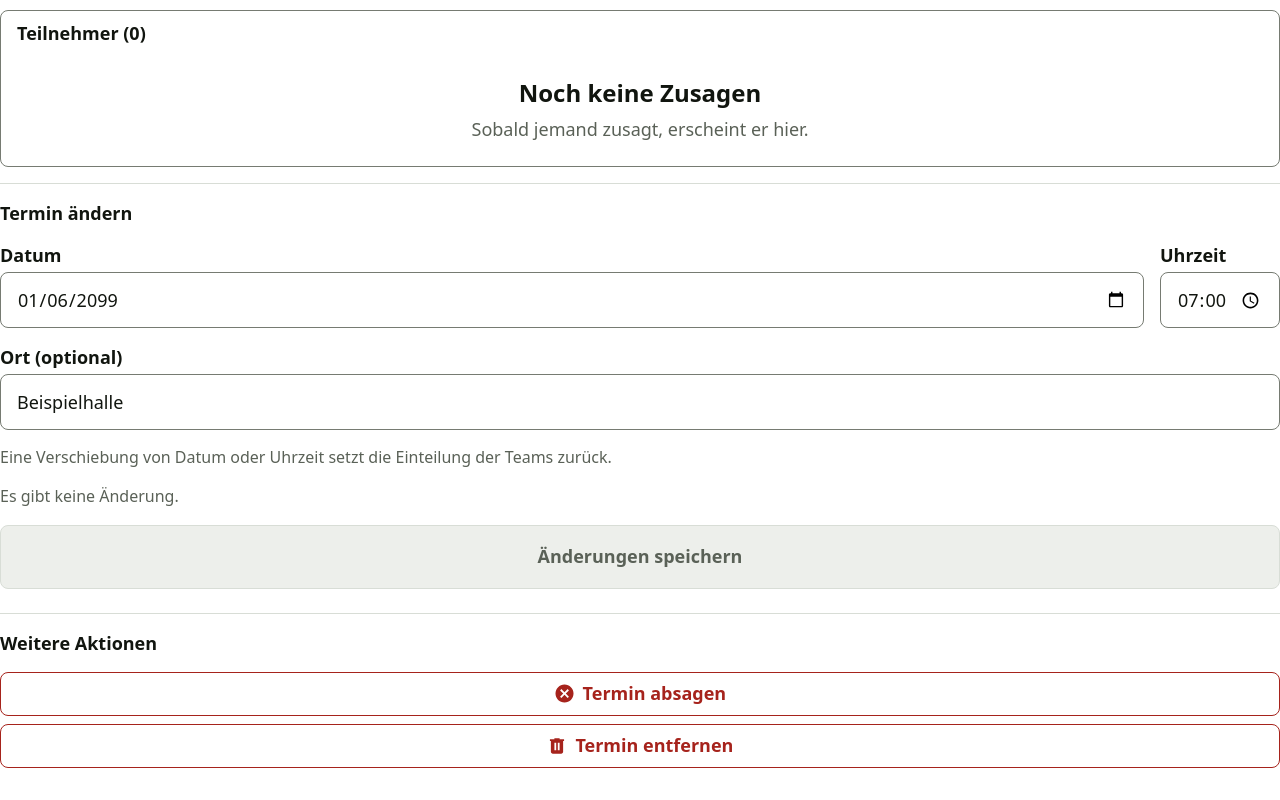
AdminTerminDetail – Weitere Aktionen › „Termin absagen“ nennt die Folgen, sendet nur die Id, der Termin zeigt „abgesagt“, nur „entfernen“ bleibt
This screenshot has width=1280, height=800.
(page scrolled)
Click the button with test id "admin-termin-absagen".
click(640, 694)  # box [0,672,1279,716]
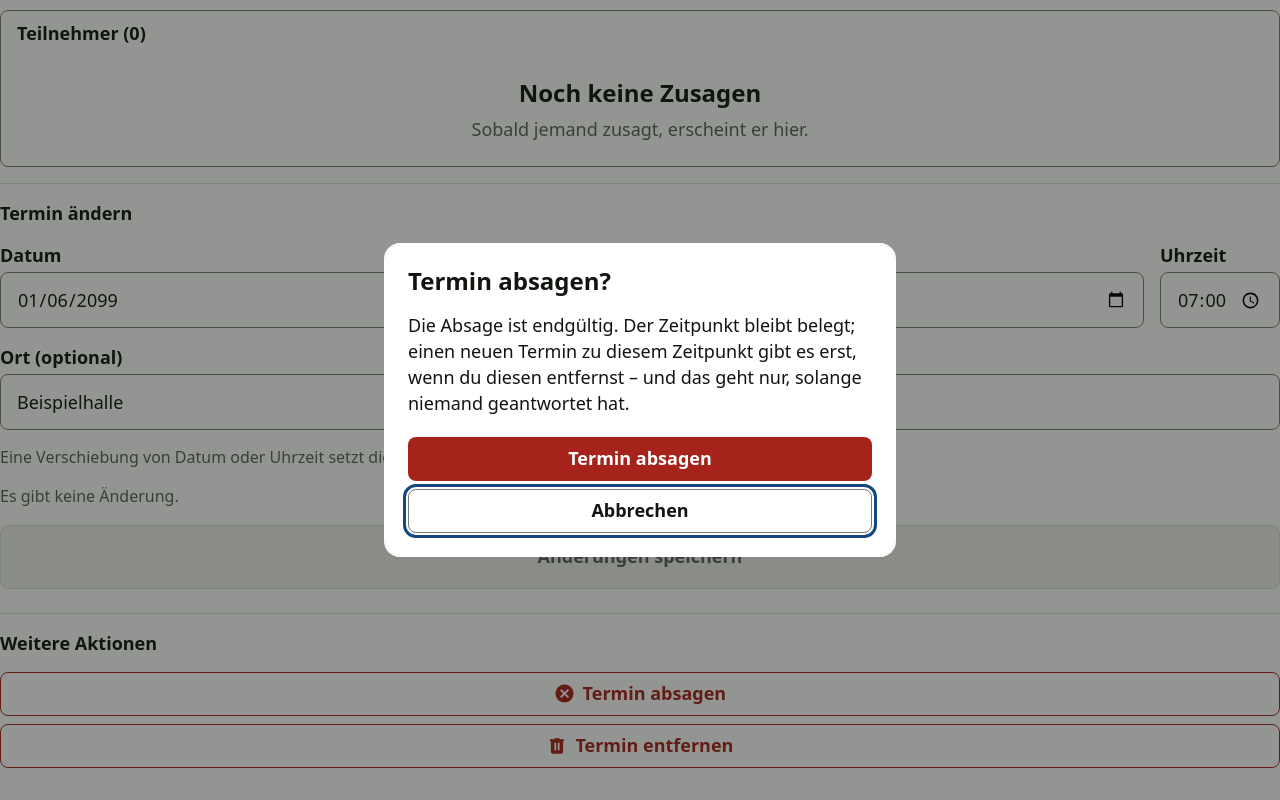
Check: the dialog with test id "admin-absagen-dialog" shows "Die Absage ist endgültig.", box [408,313,862,416]
Click the button with test id "admin-absagen-dialog-bestaetigen".
click(640, 459)  # box [408,437,872,481]
(page scrolled)
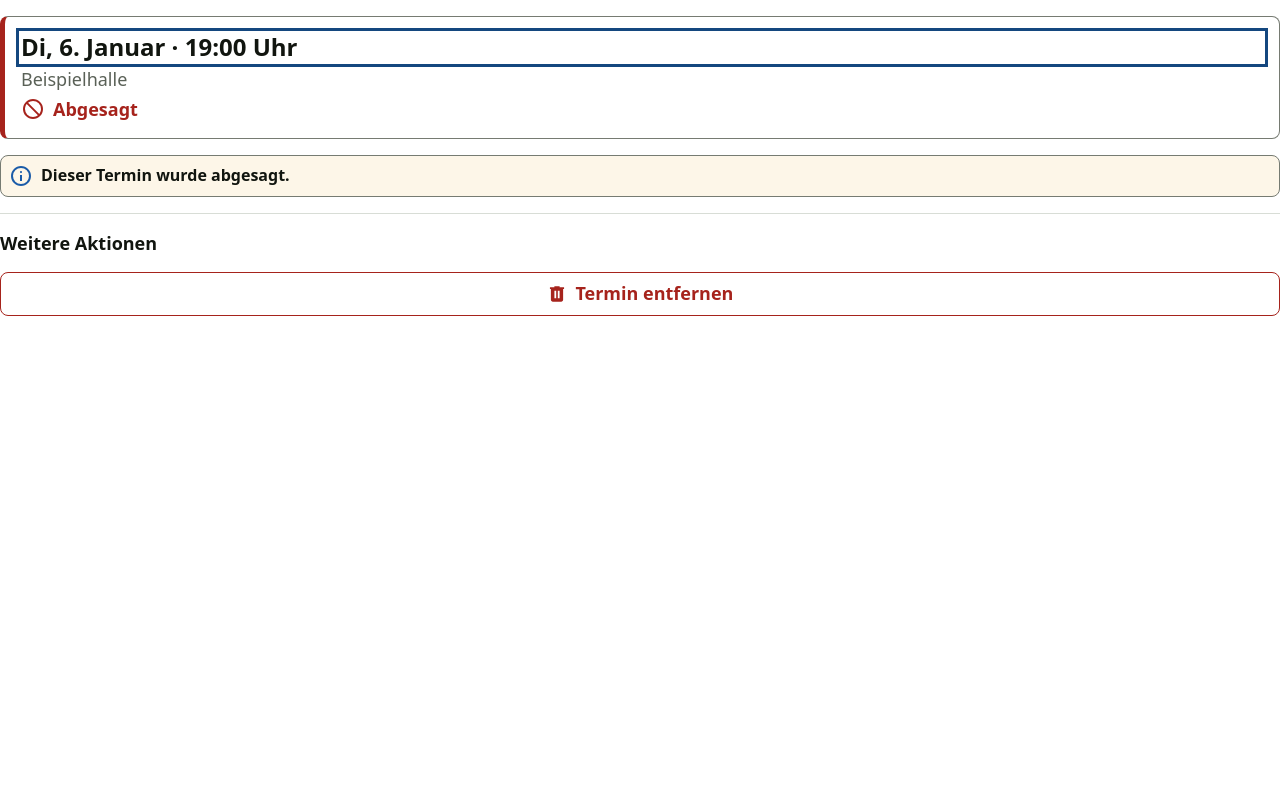
Check: the message "Dieser Termin wurde abgesagt." is shown, box [0,155,1279,197]
Check: the button with test id "admin-termin-absagen" is gone
Check: the form with test id "admin-termin-aendern" is gone
